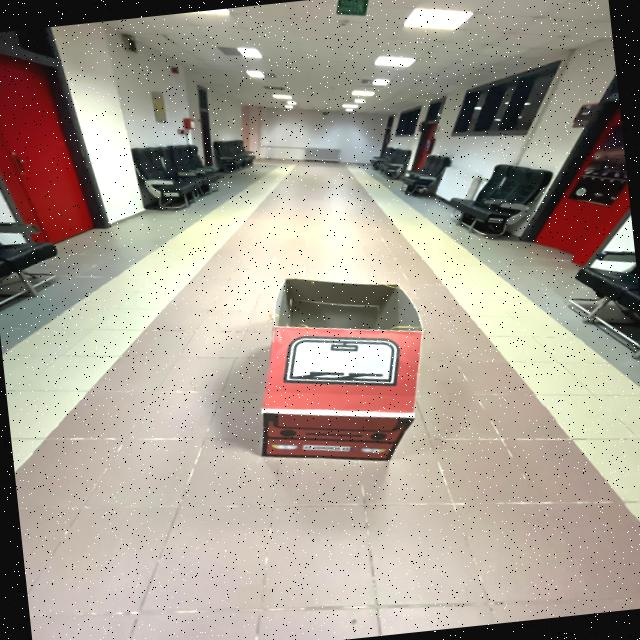red_car: (223, 261, 446, 489)
